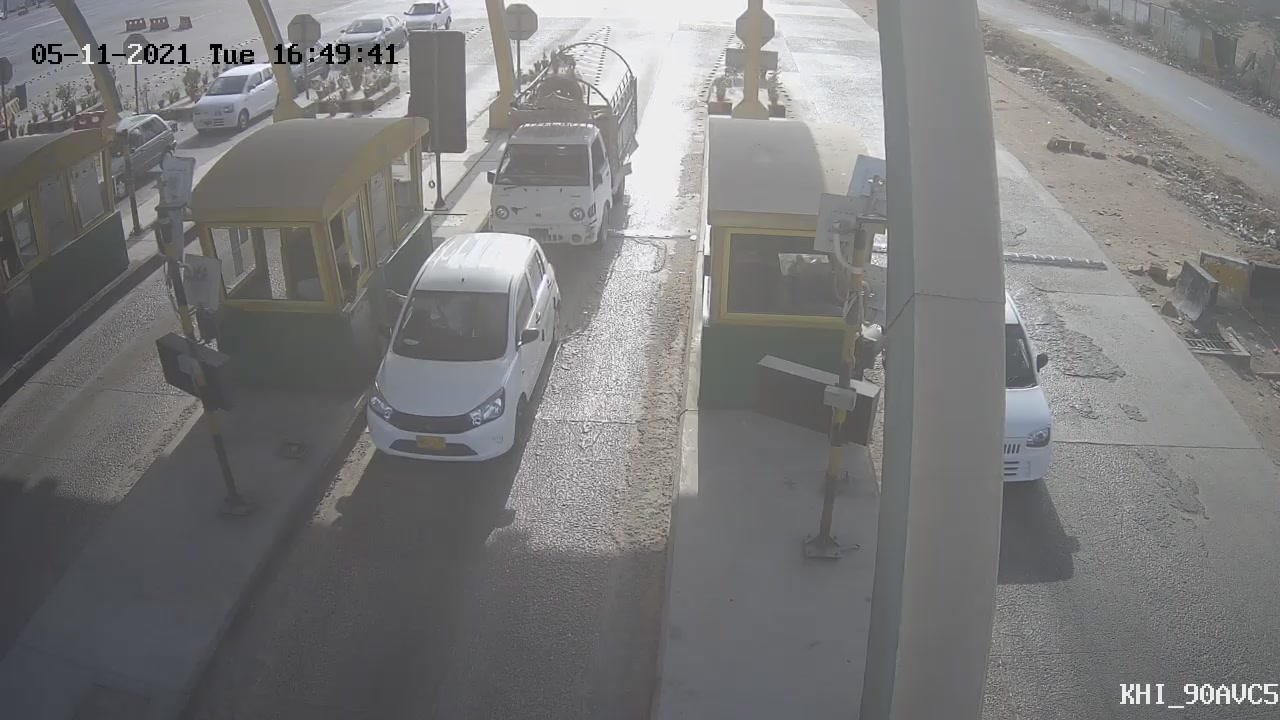F1: (340, 220, 582, 481)
F2: (488, 33, 648, 253)
